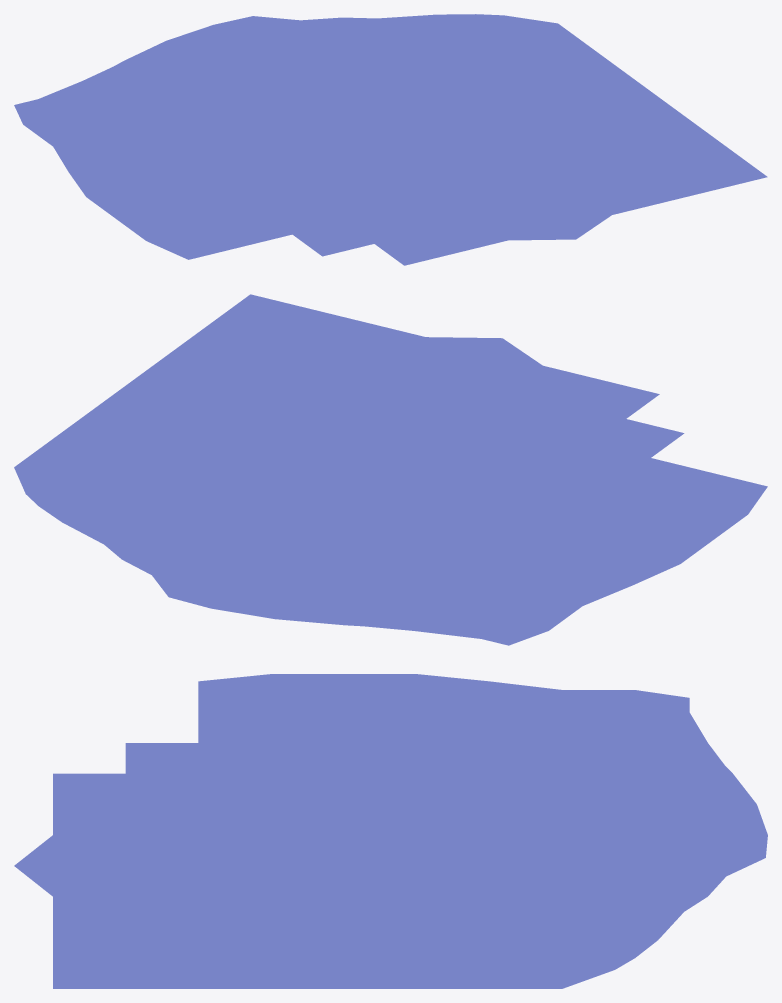
The model's file is terrain_W4A2_water.fbx.
3 views of the same model, one above another, from view 1: azimuth 30°, elevation 25°; view 2: azimuth 150°, elevation 25°; view 3: azimuth 270°, elevation 25° (orthographic). The views are drawn at different scales.
Visible parts, largest first — view 1: W4A2_water; view 2: W4A2_water; view 3: W4A2_water.
Boxes of the visible parts, x1,y1,x2,y2 form: W4A2_water: (14,14,767,265); W4A2_water: (14,294,767,645); W4A2_water: (14,674,767,988).
Size of the model in its own units: 7822 by 1.82e-12 by 7915.
